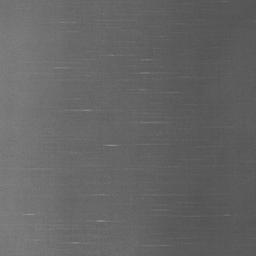Waist folding: (34, 52, 185, 246), (144, 193, 170, 212), (184, 213, 231, 218), (65, 107, 101, 113), (143, 243, 169, 248), (53, 65, 71, 70), (60, 20, 77, 25), (23, 212, 36, 217)
